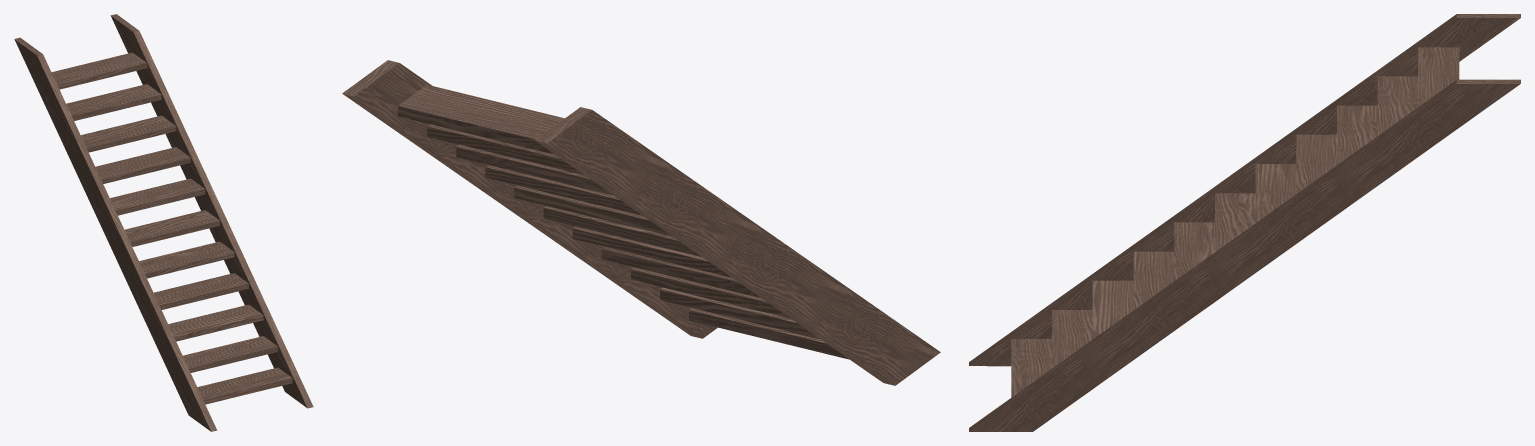
File: ladder_017.fbx
The picture shows the model from 3 angles, left to right: view 1: azimuth 30°, elevation 25°; view 2: azimuth 150°, elevation 25°; view 3: azimuth 270°, elevation 25°; orthographic projection. The views are drawn at different scales.
Parts seen in each view (by area): view 1: ladder_017; view 2: ladder_017; view 3: ladder_017.
Boxes of the visible parts, bbox=[...] form: ladder_017: bbox=[14, 14, 313, 431]; ladder_017: bbox=[342, 60, 940, 385]; ladder_017: bbox=[969, 14, 1520, 431].
Bounding box in the file's own units: 172 × 574 × 400.
